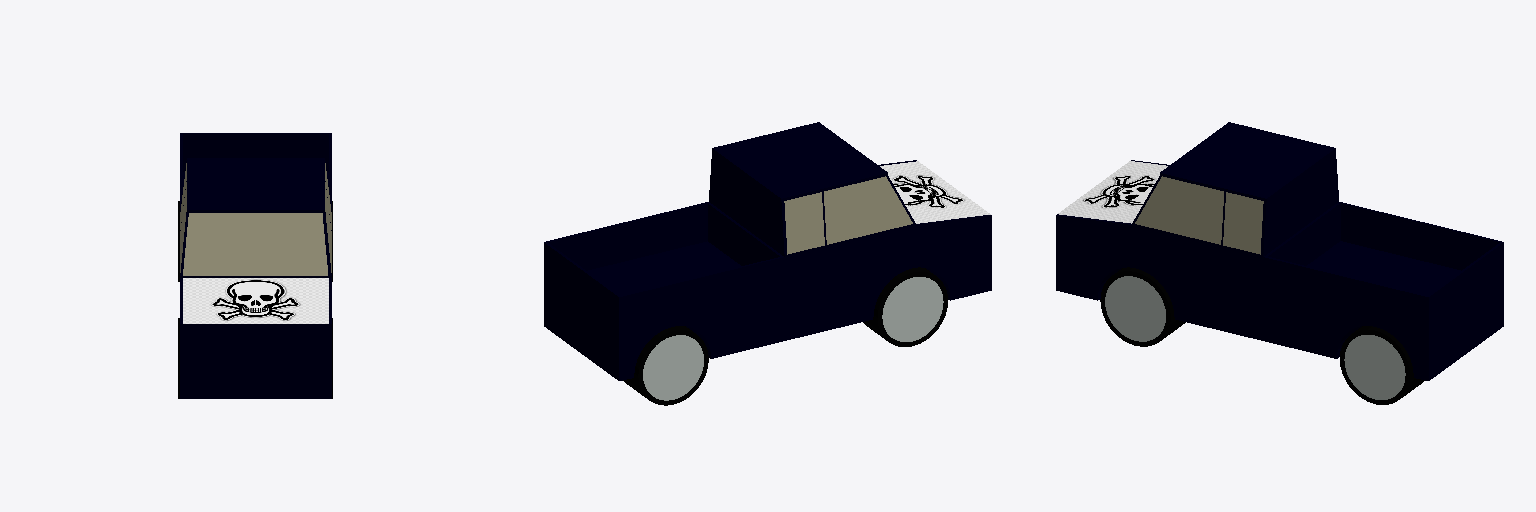
The picture shows the model from 3 angles: view 1: azimuth 30°, elevation 25°; view 2: azimuth 150°, elevation 25°; view 3: azimuth 270°, elevation 25°; orthographic projection.
Visible parts, largest first — view 1: Cylinder.001; view 2: Cylinder.001; view 3: Cylinder.001.
Part boxes in pixels (bbox=[...]): Cylinder.001: bbox=[178, 133, 332, 398]; Cylinder.001: bbox=[544, 122, 991, 405]; Cylinder.001: bbox=[1056, 122, 1503, 404].
Bounding box in the file's own units: 0.1242 × 0.0694 × 0.1609.
5 materials, 1 textured.